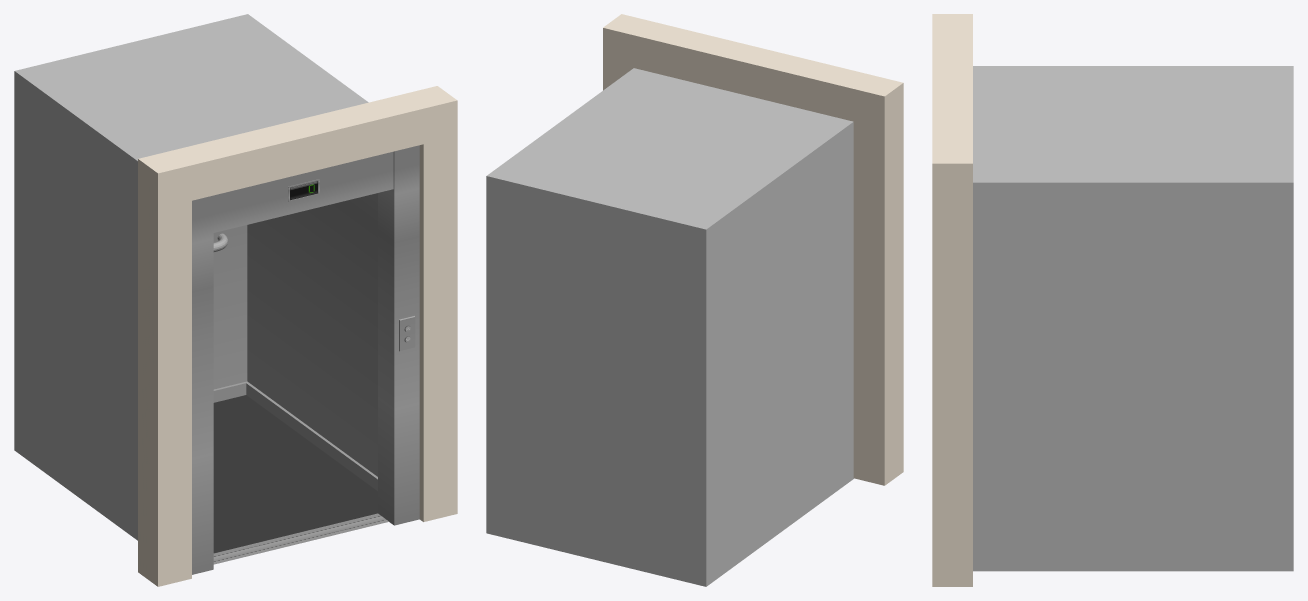
The model's file is sweethome3d-scopia-elevator.glb.
The picture shows the model from 3 angles, left to right: view 1: azimuth 30°, elevation 25°; view 2: azimuth 150°, elevation 25°; view 3: azimuth 270°, elevation 25°; orthographic projection. The views are drawn at different scales.
Visible parts, largest first — view 1: Cube.003_Cube.008, Cube.002_Cube, wooden-frame_Cube.003, metallic-frame_Cube.002, Plane; view 2: Cube.003_Cube.008, wooden-frame_Cube.003; view 3: Cube.003_Cube.008, wooden-frame_Cube.003.
Part boxes in pixels (x1=…): Cube.003_Cube.008: x1=14, y1=14, x2=368, y2=540; Cube.002_Cube: x1=213, y1=193, x2=377, y2=553; wooden-frame_Cube.003: x1=138, y1=86, x2=457, y2=586; metallic-frame_Cube.002: x1=192, y1=145, x2=419, y2=574; Plane: x1=213, y1=513, x2=388, y2=564; Cube.003_Cube.008: x1=486, y1=68, x2=853, y2=586; wooden-frame_Cube.003: x1=603, y1=14, x2=903, y2=485; Cube.003_Cube.008: x1=973, y1=66, x2=1293, y2=571; wooden-frame_Cube.003: x1=932, y1=14, x2=972, y2=586.
Bounding box in the file's own units: 186 × 245 × 190.
12 materials, 4 textured.
